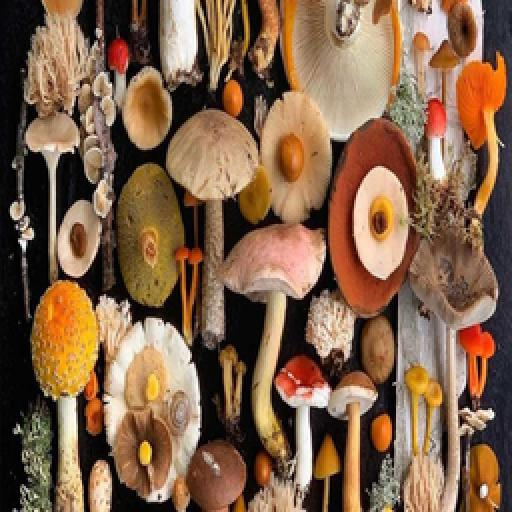mushrooms: (406, 228, 501, 508), (162, 100, 262, 352), (224, 215, 324, 461), (28, 279, 102, 512), (15, 107, 86, 283), (274, 351, 331, 490), (337, 364, 375, 512), (391, 358, 442, 462), (166, 239, 202, 350), (416, 97, 456, 183), (216, 340, 250, 432), (458, 326, 495, 404), (314, 433, 344, 512), (429, 34, 460, 106)
